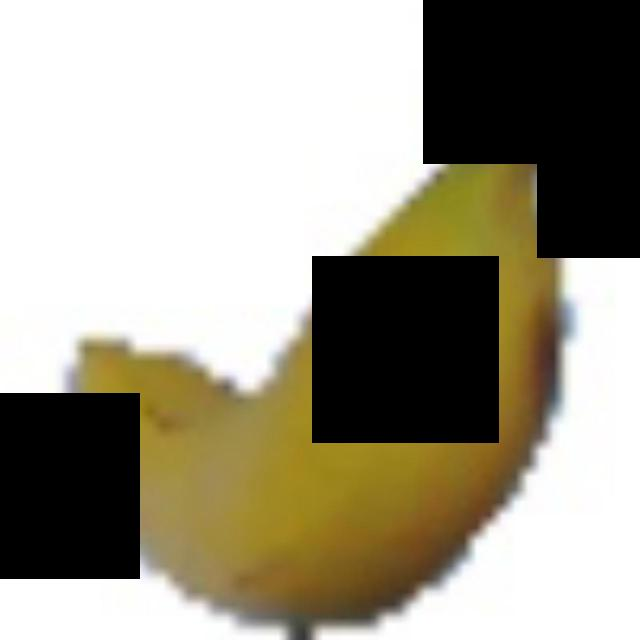banana: (51, 26, 576, 634)
